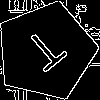T: (21, 26, 75, 80)
